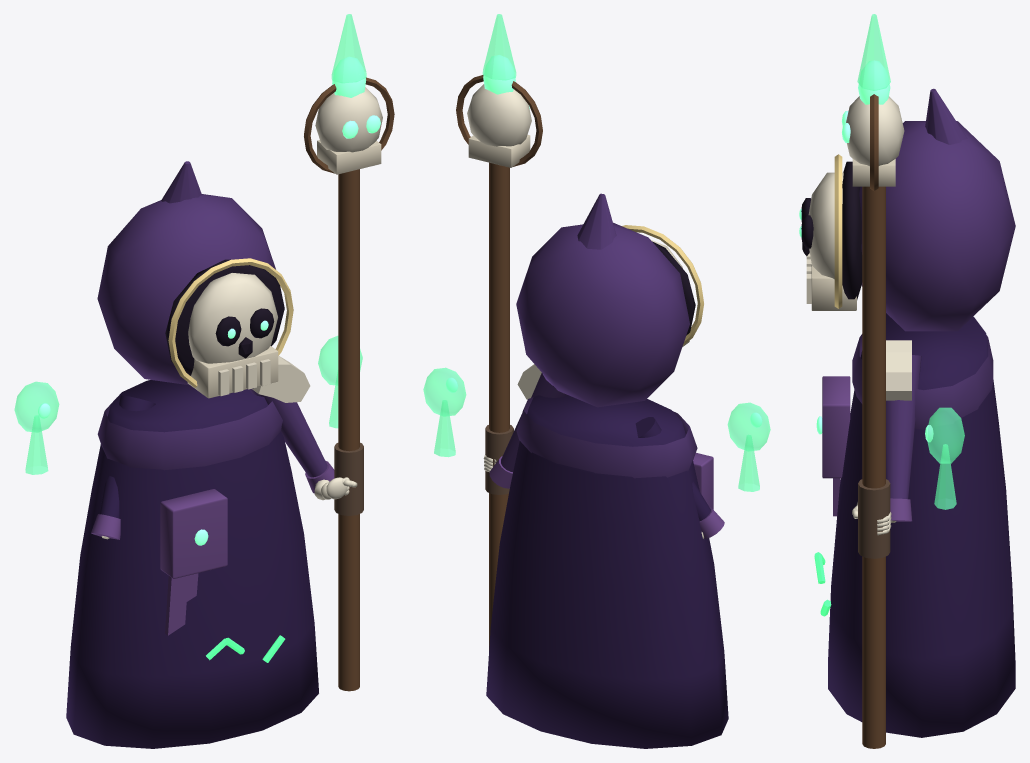
The model's file is necro_hero_prototype_v2.glb.
The picture shows the model from 3 angles, left to right: view 1: azimuth 30°, elevation 25°; view 2: azimuth 150°, elevation 25°; view 3: azimuth 270°, elevation 25°; orthographic projection. The views are drawn at different scales.
Visible parts, largest first — view 1: NH_Ragged_Robe, NH_Hood, NH_Staff, NH_Upper_Mantle, NH_Skull, NH_Soul_Pouch, NH_Staff_Skull, NH_Face_Shadow, NH_Arm_Front, NH_Hood_Gold_Trim, NH_Jaw, NH_Staff_Grip (+12 smaller); view 2: NH_Ragged_Robe, NH_Hood, NH_Staff, NH_Upper_Mantle, NH_Staff_Skull, NH_Wisp_1, NH_Wisp_2, NH_Staff_Flame, NH_Hood_Peak, NH_Staff_Cage, NH_Staff_Jaw, NH_Hood_Gold_Trim (+8 smaller); view 3: NH_Ragged_Robe, NH_Hood, NH_Staff, NH_Upper_Mantle, NH_Arm_Front, NH_Staff_Skull, NH_Soul_Pouch, NH_Face_Shadow, NH_Skull, NH_Staff_Grip, NH_Wisp_2, NH_Pauldron (+9 smaller).
Boxes of the visible parts, x1,y1,x2,y2 form: NH_Ragged_Robe: (66,380,318,748); NH_Hood: (97,194,275,385); NH_Staff: (338,169,359,691); NH_Upper_Mantle: (97,398,282,470); NH_Skull: (188,273,277,363); NH_Soul_Pouch: (160,489,227,578); NH_Staff_Skull: (315,87,382,152); NH_Face_Shadow: (165,259,284,375); NH_Arm_Front: (249,388,327,477); NH_Hood_Gold_Trim: (168,258,293,387); NH_Jaw: (187,346,278,398); NH_Staff_Grip: (334,442,363,515); NH_Ragged_Robe: (486,395,728,748); NH_Hood: (516,222,689,407); NH_Staff: (489,162,509,650); NH_Upper_Mantle: (516,397,697,478); NH_Staff_Skull: (467,84,531,146); NH_Wisp_1: (727,402,770,451); NH_Wisp_2: (423,367,466,416); NH_Staff_Flame: (482,14,516,80); NH_Hood_Peak: (577,193,616,249); NH_Staff_Cage: (456,75,542,166); NH_Staff_Jaw: (468,134,530,167); NH_Hood_Gold_Trim: (622,225,703,345); NH_Ragged_Robe: (828,313,1015,737); NH_Hood: (859,121,1015,331); NH_Staff: (862,186,885,748); NH_Upper_Mantle: (852,334,993,429); NH_Arm_Front: (886,355,921,499); NH_Staff_Skull: (846,96,904,166); NH_Soul_Pouch: (822,376,850,478); NH_Face_Shadow: (842,161,862,299); NH_Skull: (808,172,843,279); NH_Staff_Grip: (858,479,890,558); NH_Wisp_2: (927,407,964,463); NH_Pauldron: (886,340,911,400).
Size of the model in its own units: 2.04 by 3.73 by 1.
